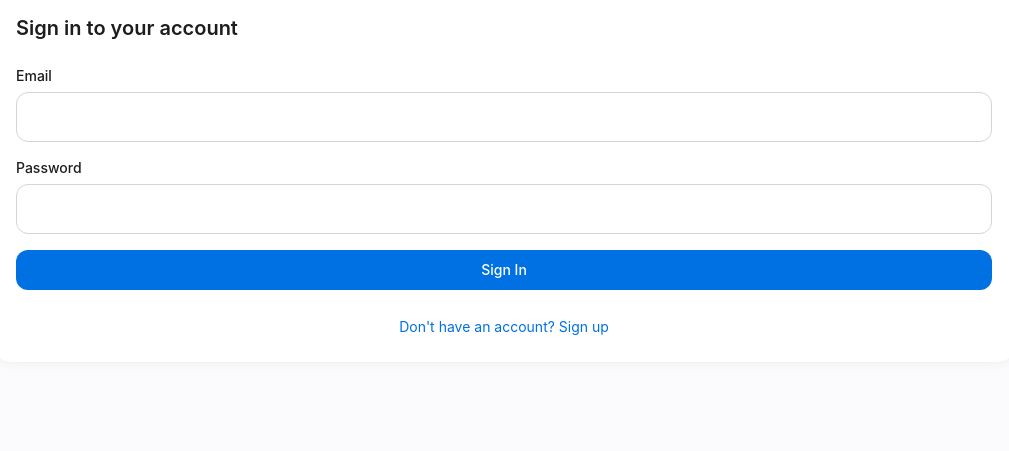
Scenario: LoginPage › Form Toggle › can switch between login and sign up forms
The width and height of the screenshot is (1009, 451).
Check: the heading "Sign in to your account" is shown, box [16, 16, 238, 40]
Switch to sign up
What coordinates should you click on to do the following:
click the button "Don't have an account? Sign up"
I would click on:
 (504, 327)
Its box is [399, 317, 609, 337].
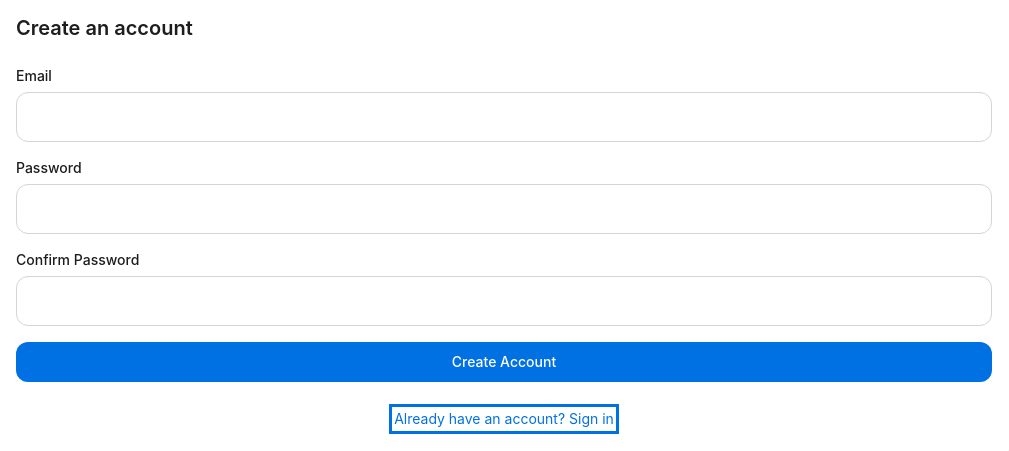
Check: the heading "Create an account" is shown, box [16, 16, 193, 40]
Switch back to login
What coordinates should you click on to do the following:
click the button "Already have an account? Sign in"
I would click on:
 (504, 419)
Its box is [394, 409, 614, 429].
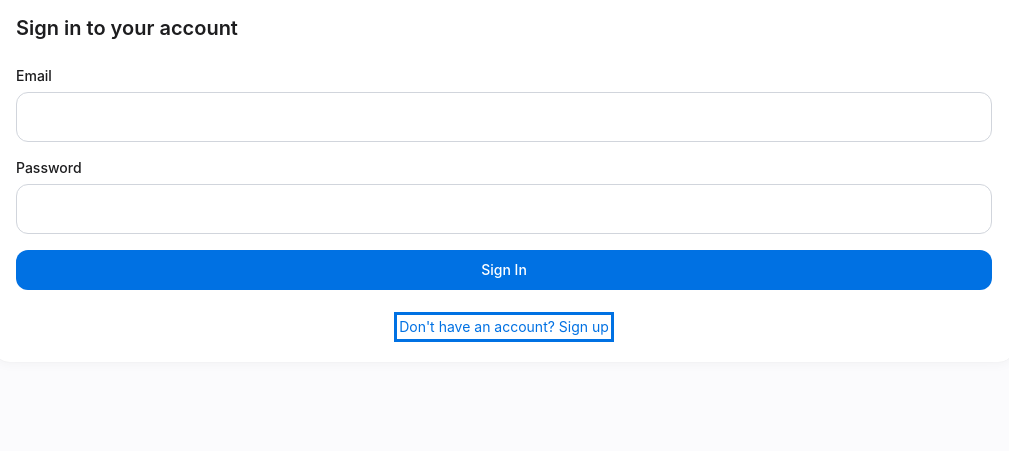
Check: the heading "Sign in to your account" is shown, box [16, 16, 238, 40]
